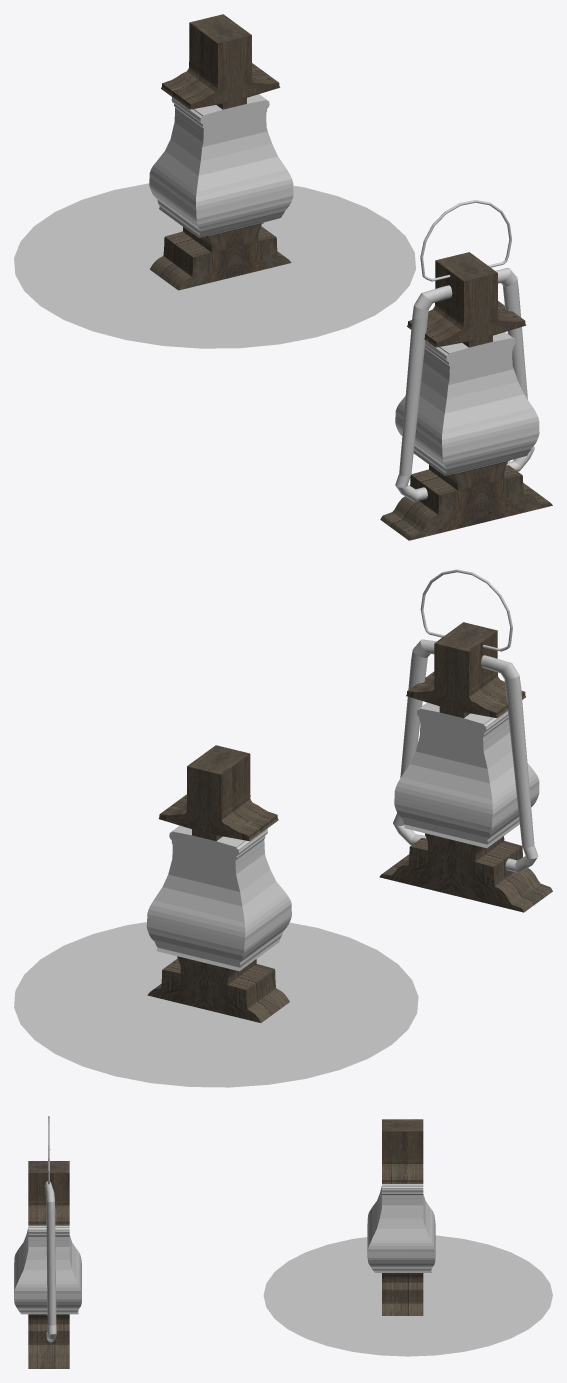
The model's file is Latern.fbx.
3 views of the same model, one above another, from view 1: azimuth 30°, elevation 25°; view 2: azimuth 150°, elevation 25°; view 3: azimuth 270°, elevation 25° (orthographic). The views are drawn at different scales.
Parts seen in each view (by area): view 1: Circle, Cube.061, Cube.125, Cylinder, Cylinder.001, Cylinder.002; view 2: Circle, Cube.061, Cube.125, Cylinder, Cylinder.001, Cylinder.002; view 3: Circle, Cube.125, Cube.061, Cylinder.001.
Part boxes in pixels (x1=…): Circle: x1=14, y1=183, x2=415, y2=348; Cube.061: x1=380, y1=252, x2=552, y2=540; Cube.125: x1=149, y1=14, x2=293, y2=290; Cylinder: x1=395, y1=285, x2=452, y2=501; Cylinder.001: x1=495, y1=268, x2=534, y2=471; Cylinder.002: x1=420, y1=200, x2=511, y2=281; Circle: x1=14, y1=922, x2=418, y2=1087; Cube.061: x1=379, y1=622, x2=552, y2=912; Cube.125: x1=146, y1=745, x2=291, y2=1022; Cylinder: x1=481, y1=655, x2=538, y2=872; Cylinder.001: x1=393, y1=639, x2=436, y2=845; Cylinder.002: x1=420, y1=569, x2=512, y2=651; Circle: x1=263, y1=1235, x2=552, y2=1356; Cube.125: x1=367, y1=1119, x2=435, y2=1315; Cube.061: x1=14, y1=1161, x2=81, y2=1368; Cylinder.001: x1=44, y1=1181, x2=56, y2=1342.
Size of the model in its own units: 265 by 226 by 493.
